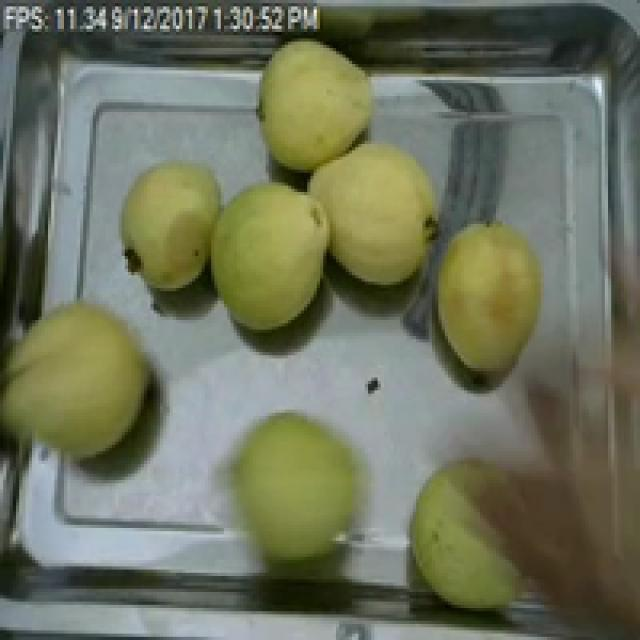Fruit: (397, 438, 640, 637), (205, 400, 387, 573), (0, 288, 163, 477), (409, 208, 556, 390), (301, 125, 451, 301), (202, 164, 339, 342), (250, 29, 387, 182), (112, 150, 234, 301)
